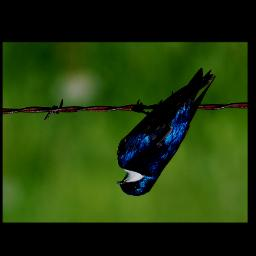Swallow: (115, 68, 217, 196)
